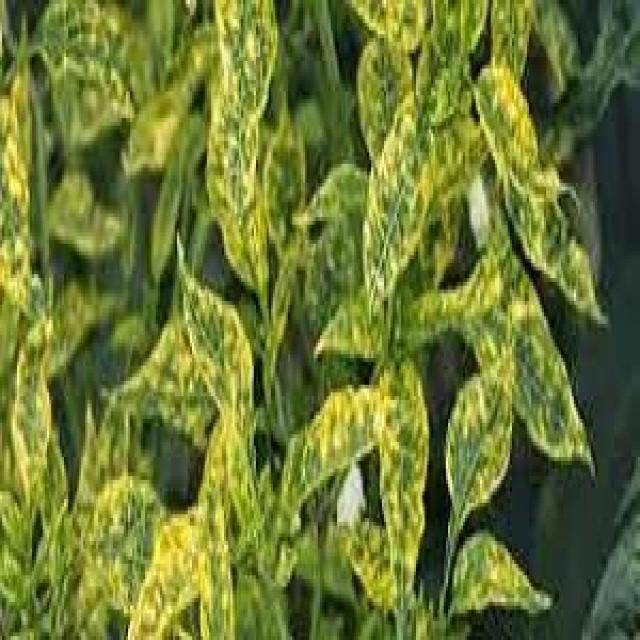virus_kuning: (348, 31, 442, 306), (118, 487, 223, 640)
